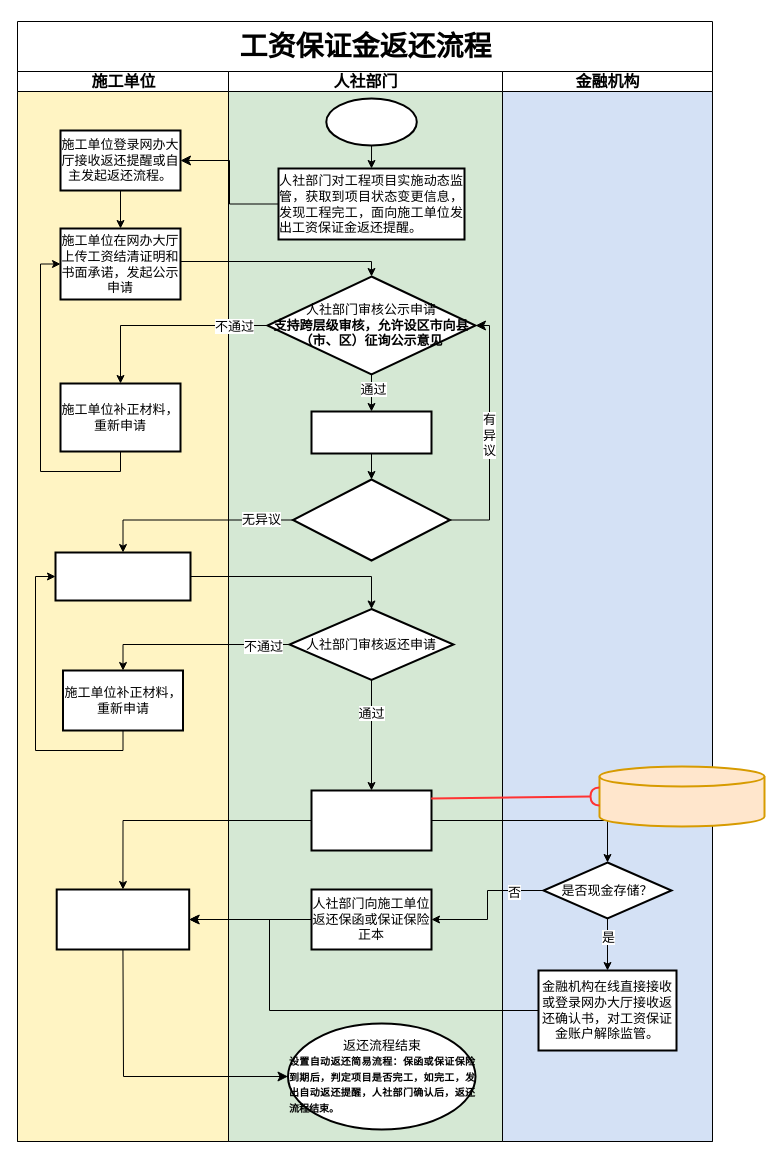
The diagram is 783 pixels wide and 1159 high, and some of its shapes have lost their labels. The shapes that lost their labels are listed below. From the top down, each one's centre as x and y in pixels, then its label:
At point (371, 121): "动态监管：项目库".
At point (371, 432): "人社门户网站公示".
At point (371, 519): "公示是否有异议？ 提供公示到期提醒功能".
At point (122, 576): "施工单位提交相关材料，发起返还申请".
At point (681, 796): "出具返还确认书".
At point (371, 820): "人社部门出具 返还确认书".
At point (122, 919): "施工单位接收返还确认书，确认返还结果。".
